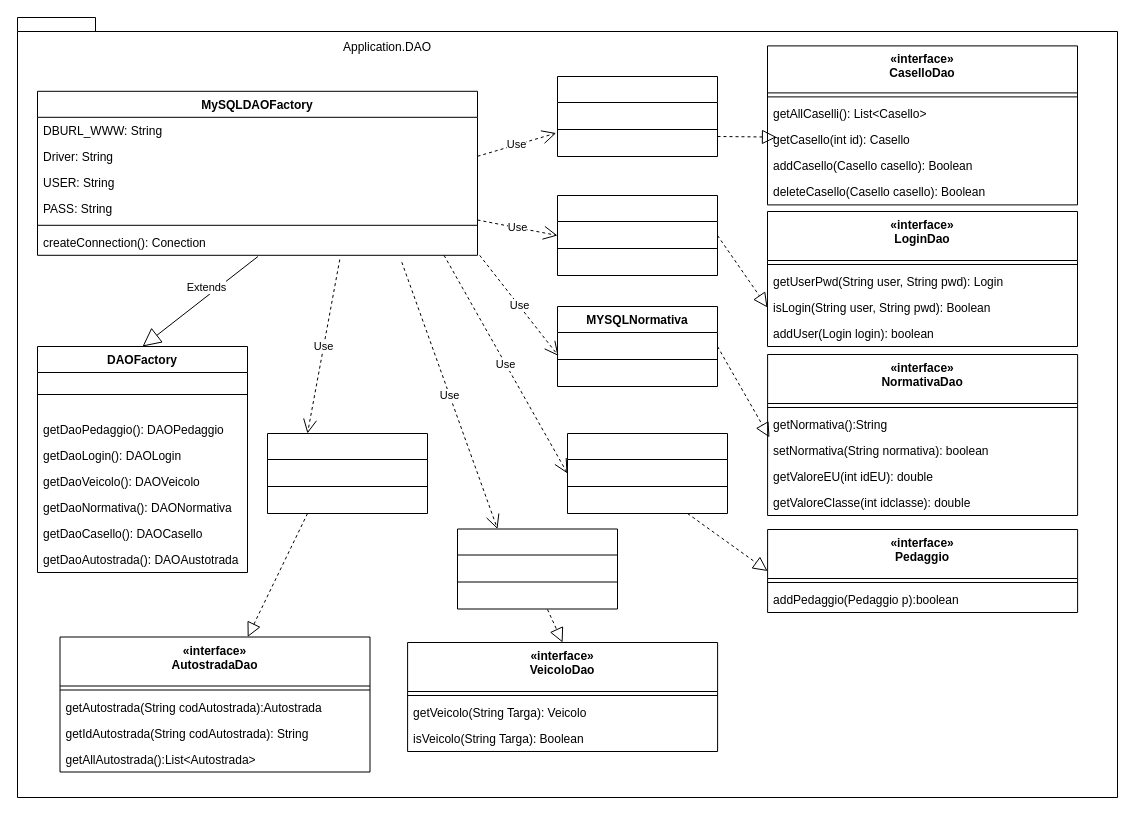
Some shapes in this 1135 by 815 pixel diagram are drawn without their labels. The centre of each missing label's shape, as x and y in pixels:
MYSQLAutostrada: the point at 347,473
MYSQLCasello: the point at 637,116
MYSQLLogin: the point at 637,235
MYSQLPedaggio: the point at 647,473
MYSQLVeicolo: the point at 537,568
